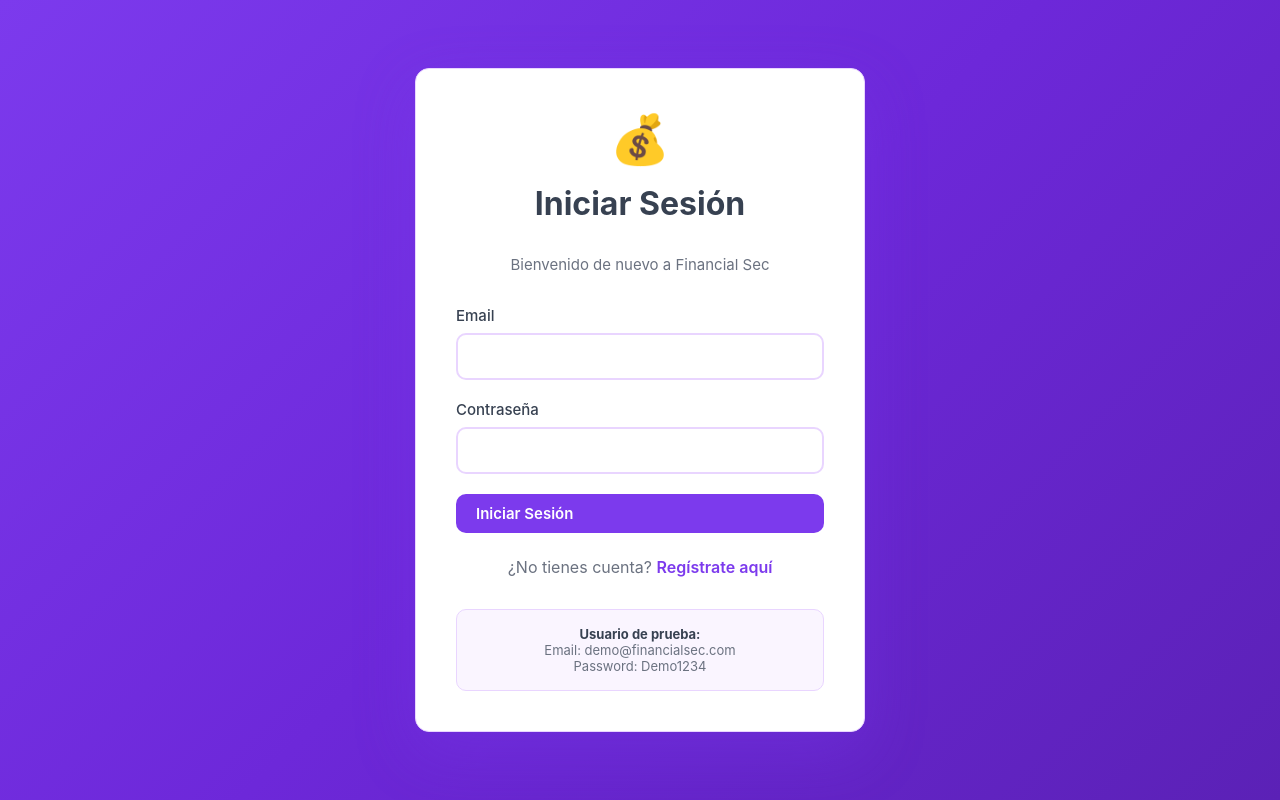
Test: Login Component - Unit Tests › debe mostrar error genérico si no hay mensaje específico
In the field labelled "Email": (640, 356) [456,333,824,380], type "test@example.com"
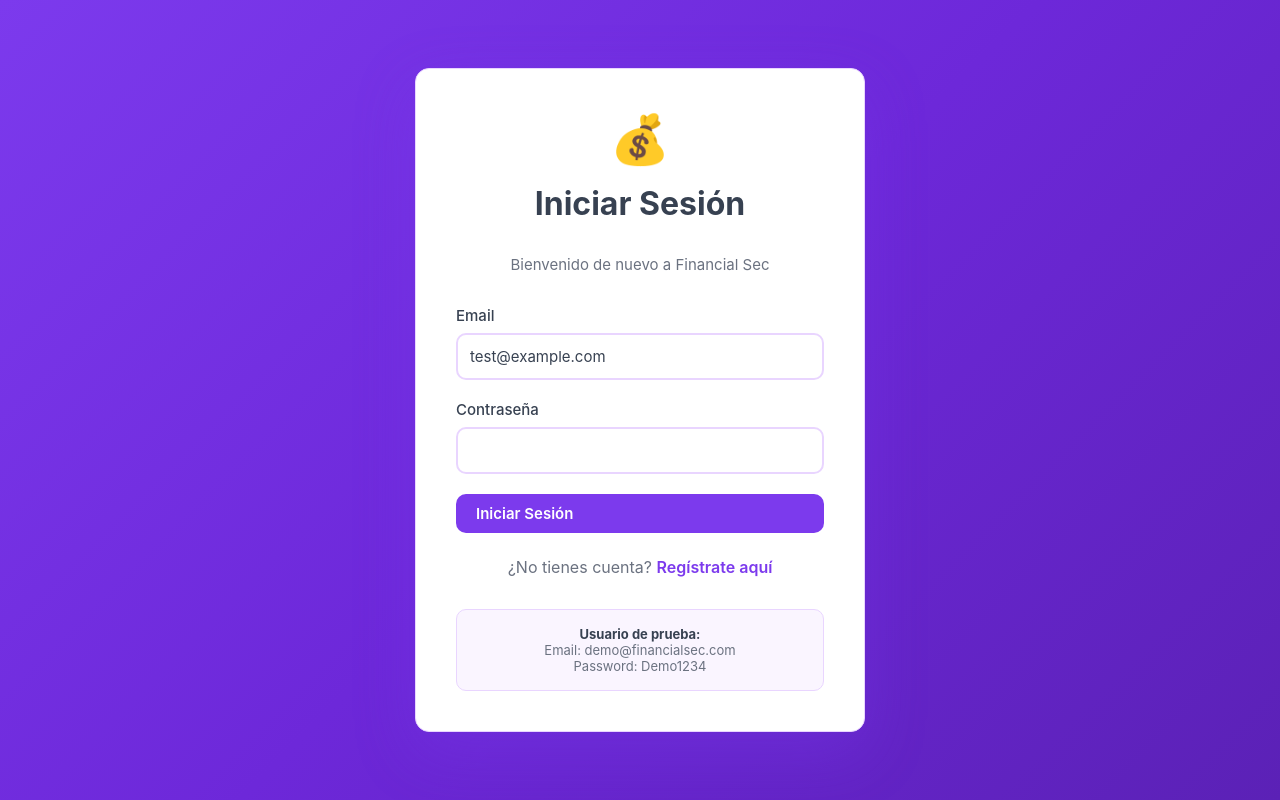
In the password field labelled "Contraseña": (640, 450) [456,427,824,474], type "TestPass123"
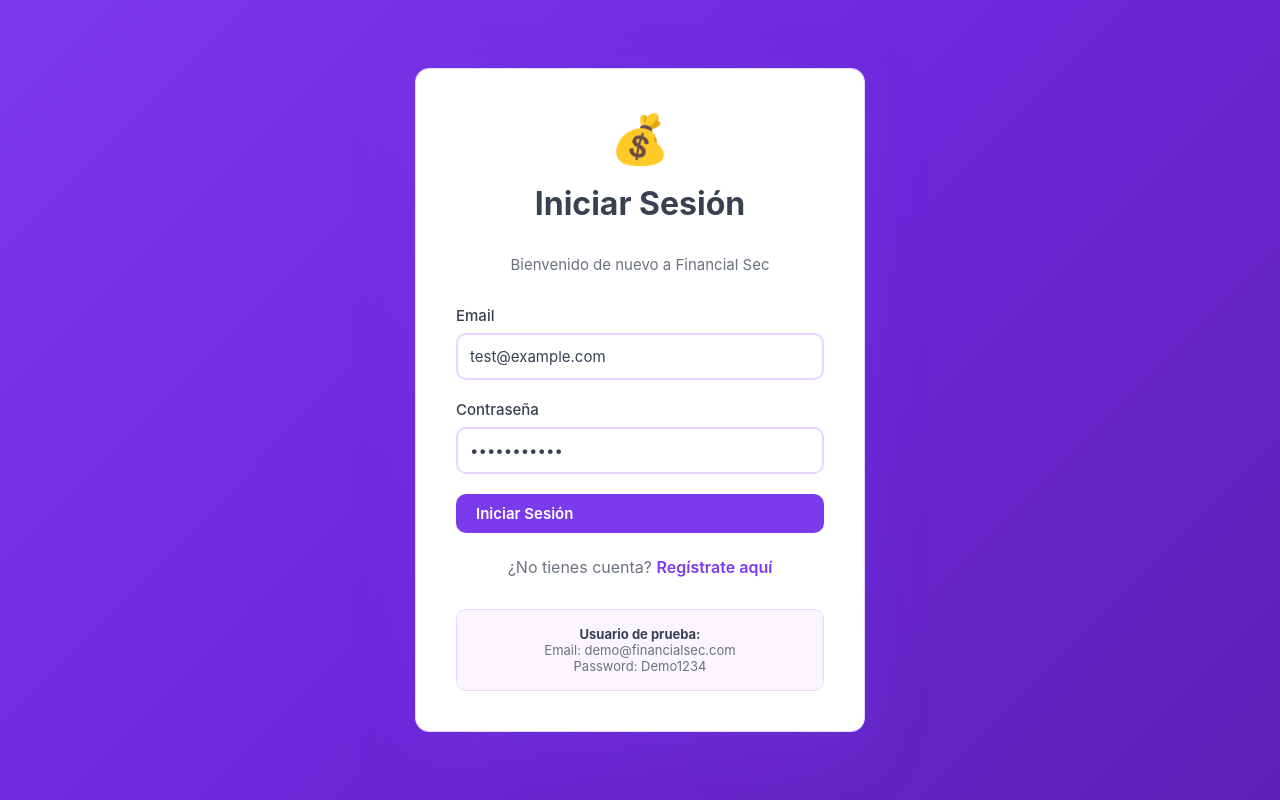
Click the button "Iniciar Sesión": (525, 514) [456,494,824,533]
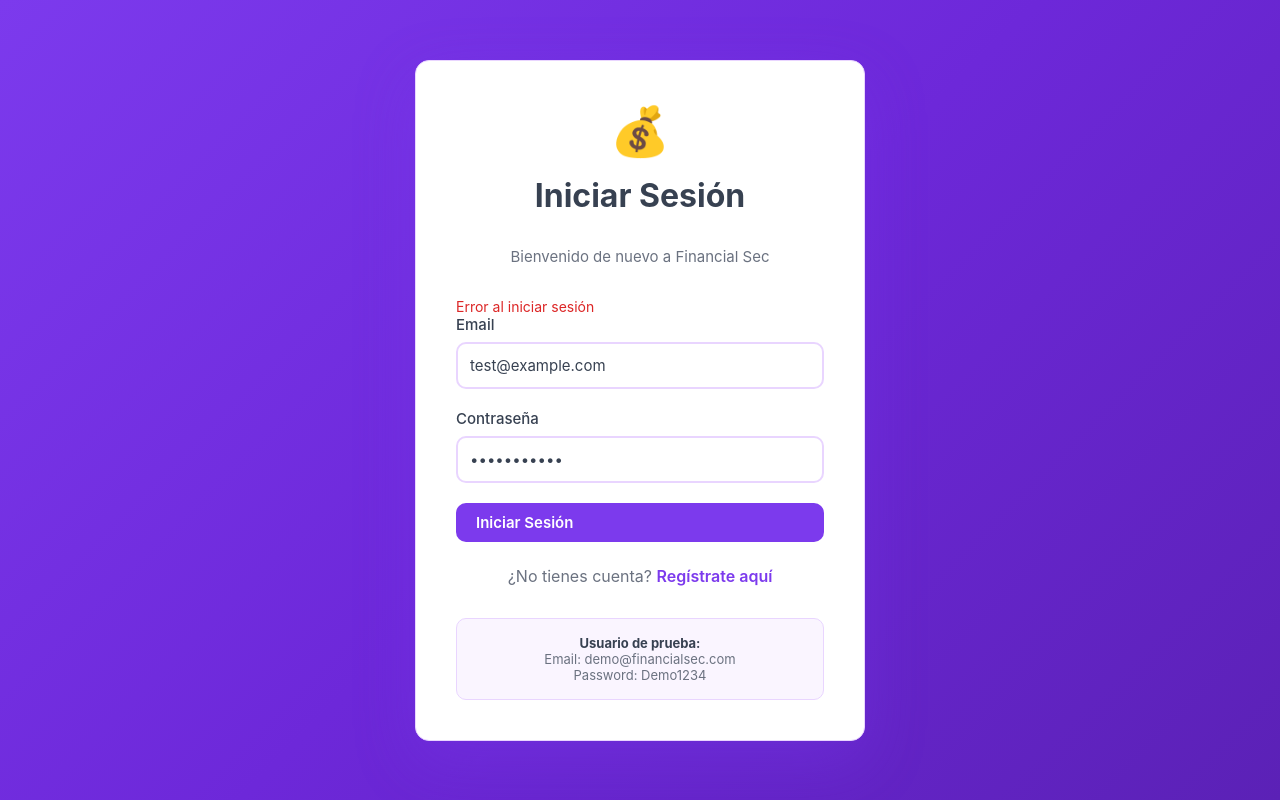
expect the text "Error al iniciar sesión" is shown: met, box [456,298,594,314]
